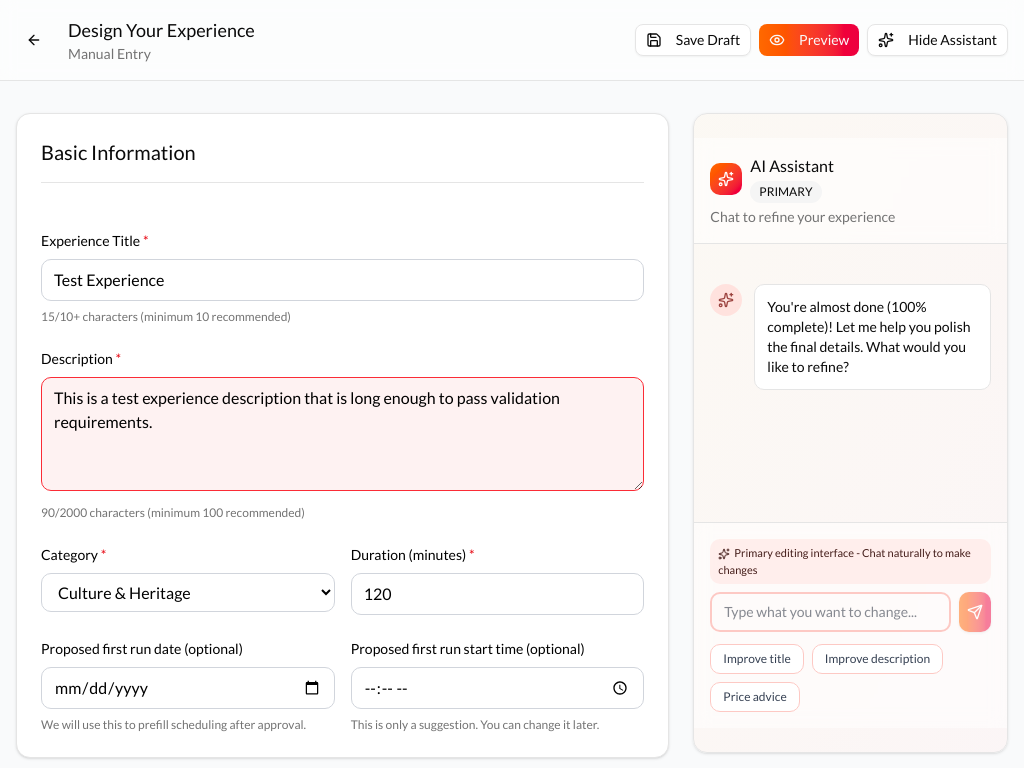
DesignExperienceV2 Edit Mode › UI Indicators › shows "Update Experience" button text in edit mode
Replace the text in the field with placeholder "e.g., Mumbai Street Food Adventure with Local Guide" with "Mumbai Heritage Walk Test Experience" at coordinates (343, 280), box [41, 259, 644, 301]
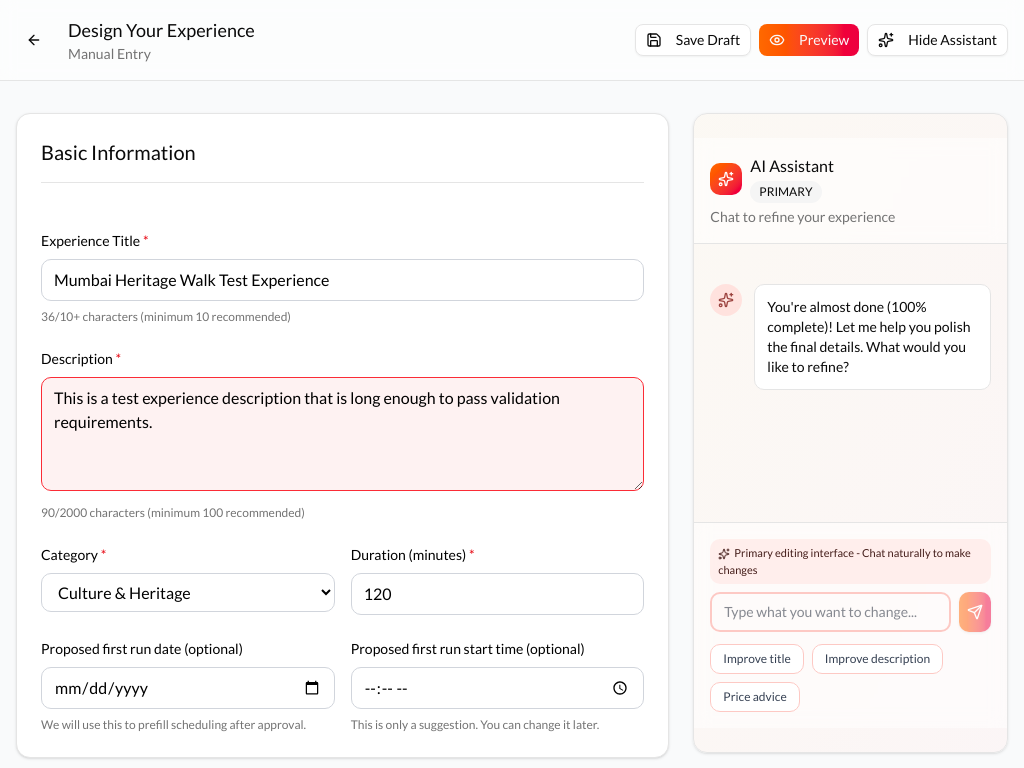
Replace the text in the text box with placeholder "Describe what makes your experience unique and exciting..." with "This is a long enough description for the test to pass validation. It needs to be at least 100 characters long so I am typing more words here to ensure we hit that limit successfully." at coordinates (343, 434), box [41, 377, 644, 491]
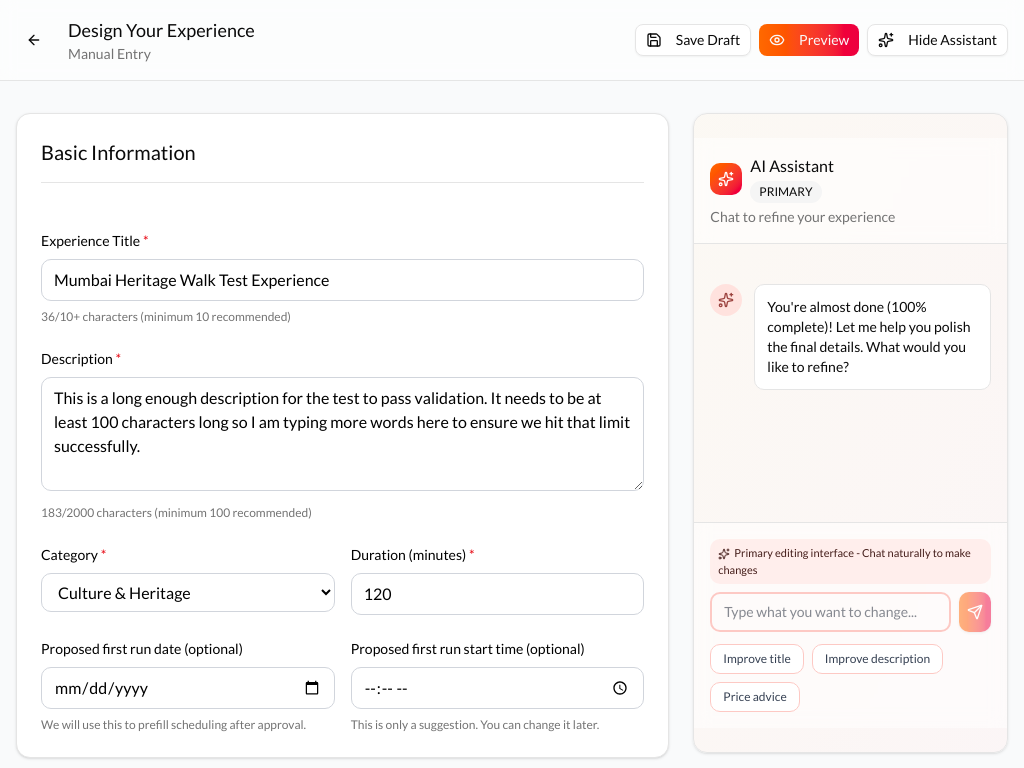
Select "Culture & Heritage" in the dropdown at coordinates (188, 592), box [41, 573, 335, 612]
(page scrolled)
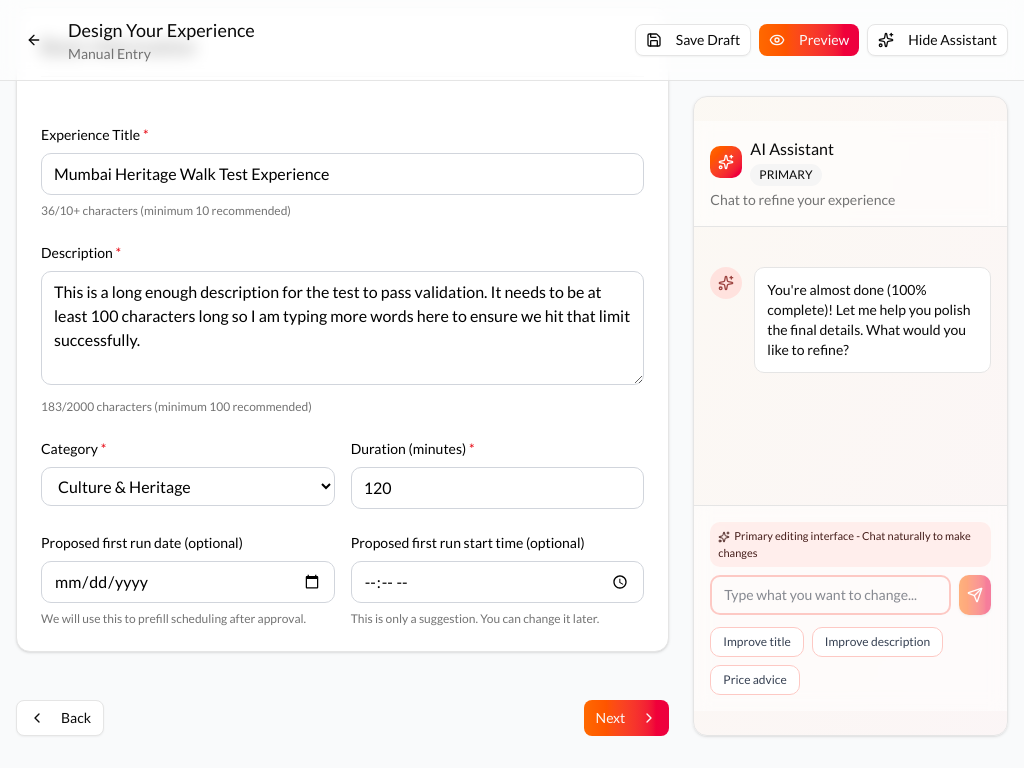
Click the button "Next" at coordinates (626, 718), box [584, 700, 669, 736]
(page scrolled)
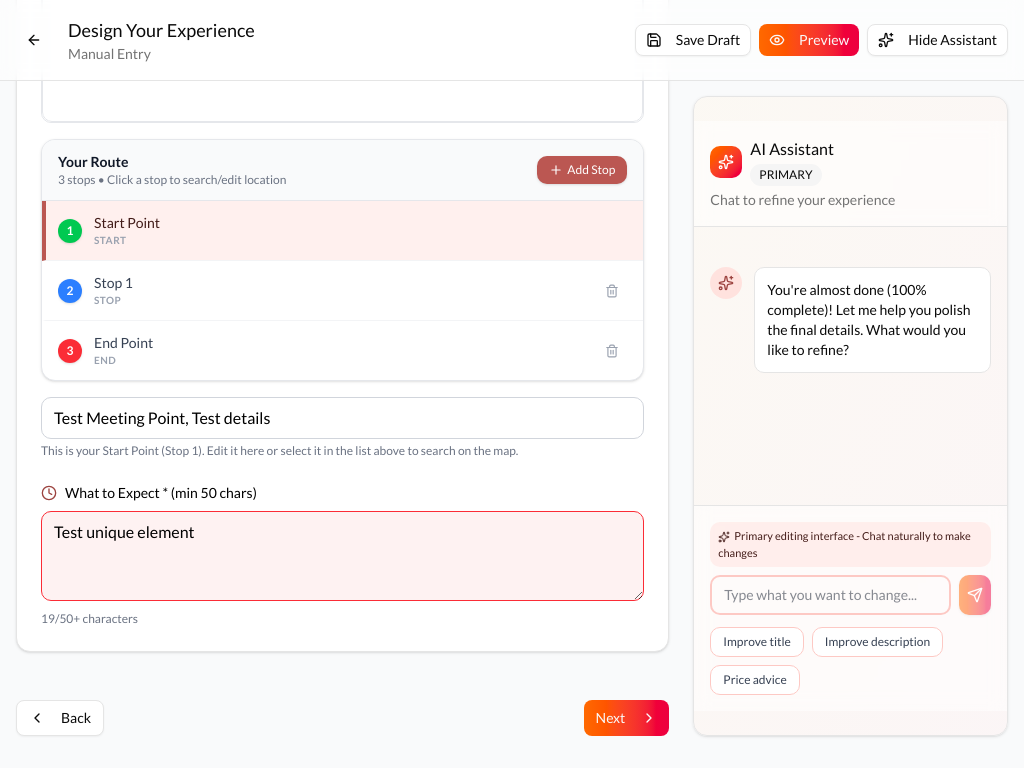
Click the button "Next" at coordinates (626, 718), box [584, 700, 669, 736]
(page scrolled)
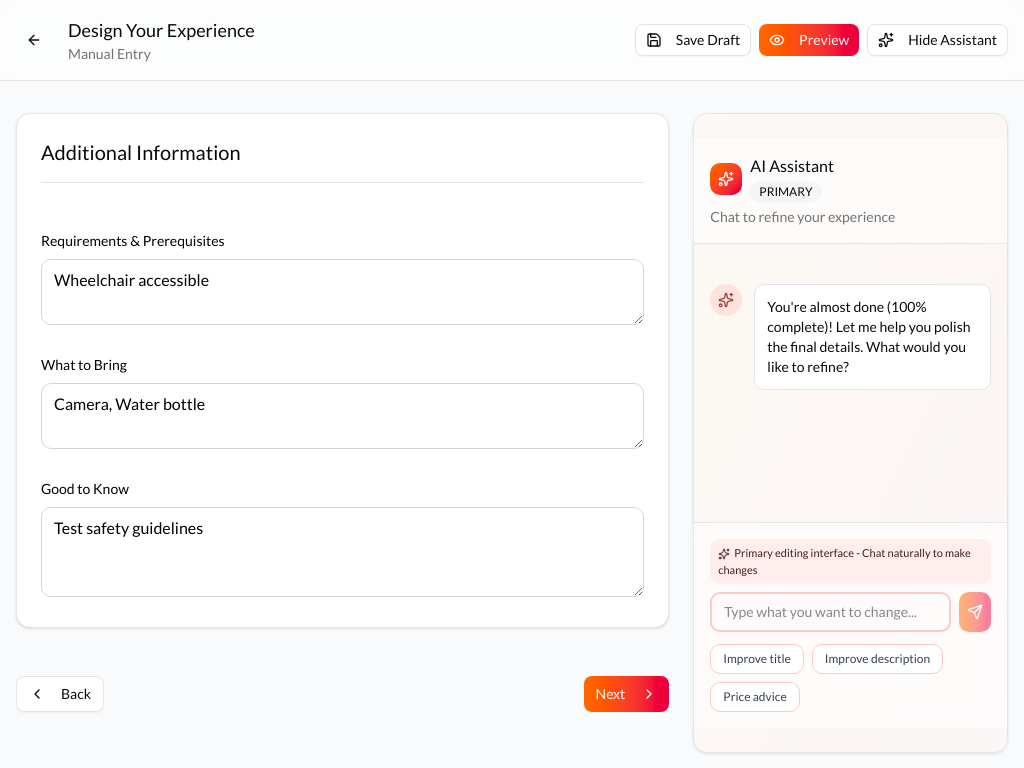
Click the button "Next" at coordinates (626, 694), box [584, 676, 669, 712]
(page scrolled)
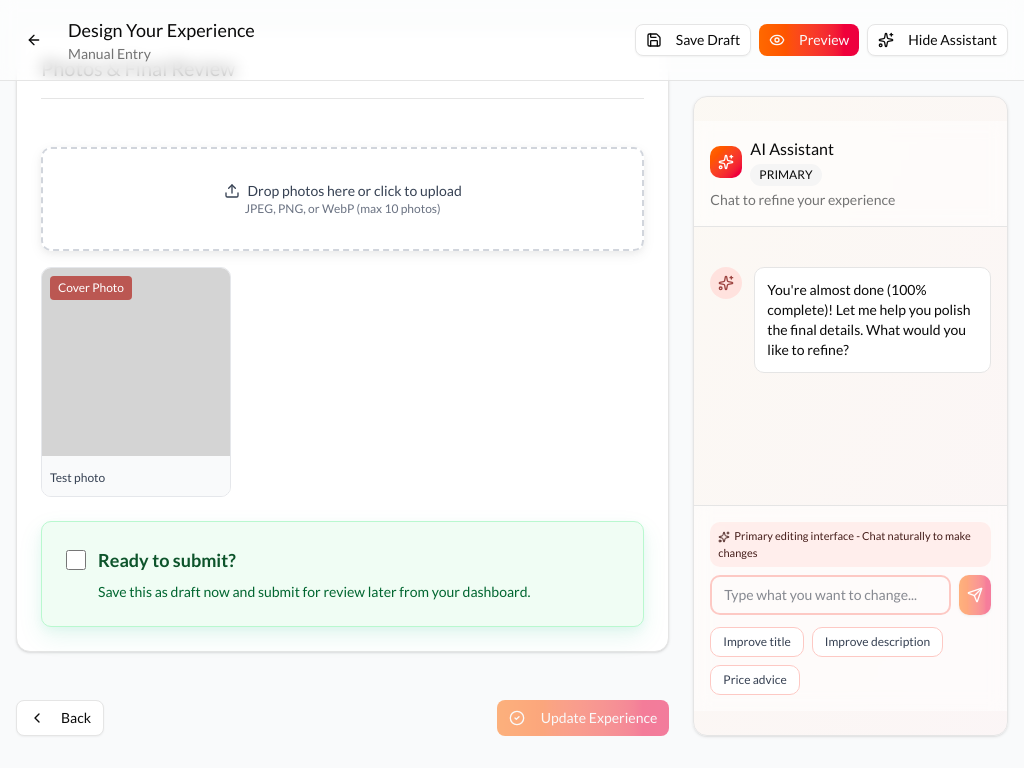
Expected: the button "Update Experience" is shown, [497, 700, 669, 736]
